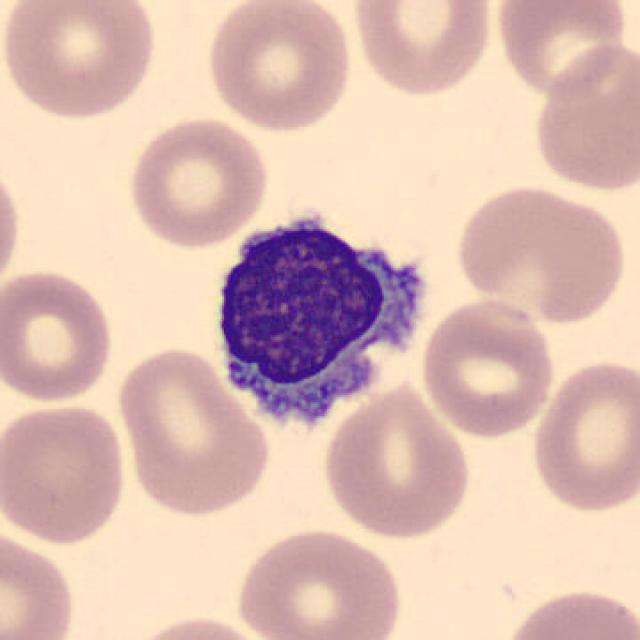Lymphocyte: (201, 198, 437, 444)
RBC: (114, 342, 274, 520), (318, 374, 475, 543), (452, 180, 630, 326), (416, 294, 558, 441), (202, 0, 356, 134), (123, 113, 272, 250), (231, 523, 405, 640), (0, 0, 162, 123), (0, 398, 130, 548), (528, 354, 638, 516), (528, 38, 638, 195), (0, 264, 117, 407), (348, 0, 497, 100), (491, 0, 633, 102), (0, 523, 80, 640), (496, 583, 638, 640), (117, 612, 281, 640), (0, 155, 25, 298)
